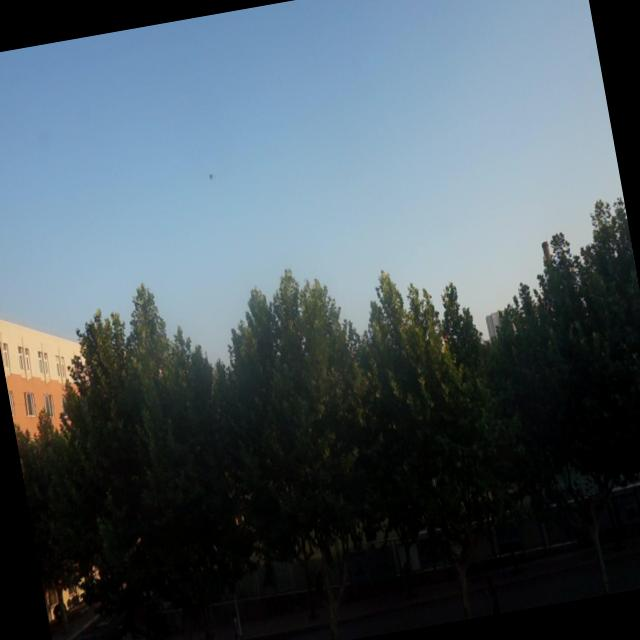drone: (204, 168, 216, 182)
